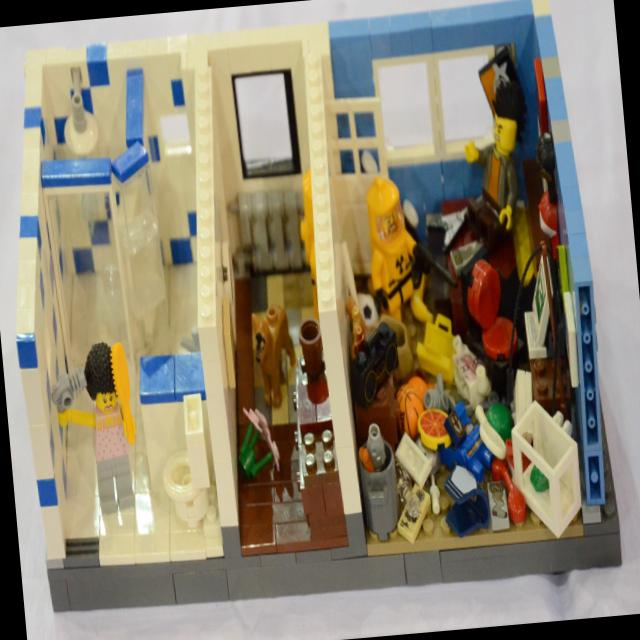Toy: (0, 0, 623, 615)
